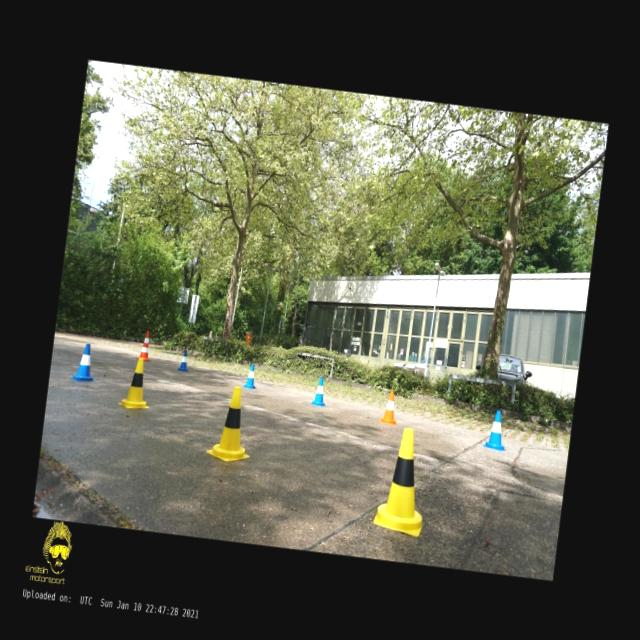blue_cone: (68, 341, 98, 383), (482, 408, 508, 451), (310, 376, 328, 406), (242, 362, 258, 389), (177, 349, 190, 371)
large_orange_cone: (136, 329, 154, 362)
orange_cone: (379, 389, 399, 424)
yellow_cone: (371, 424, 433, 536), (205, 384, 258, 464), (116, 355, 154, 410)
